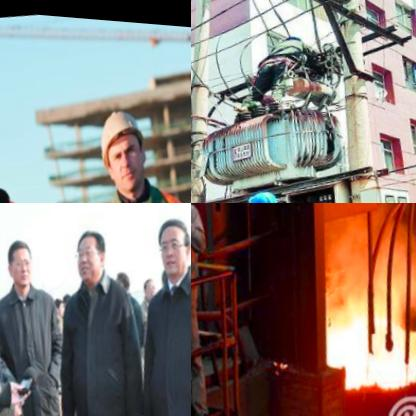helmet: (85, 94, 162, 199), (246, 181, 290, 203)
